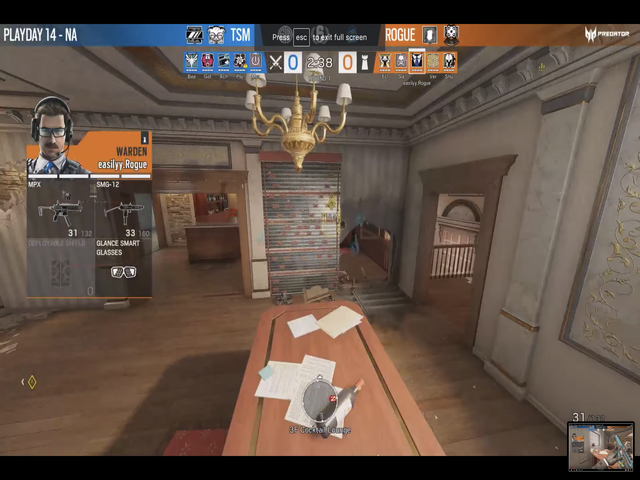0_blue: (281, 51, 303, 73)
